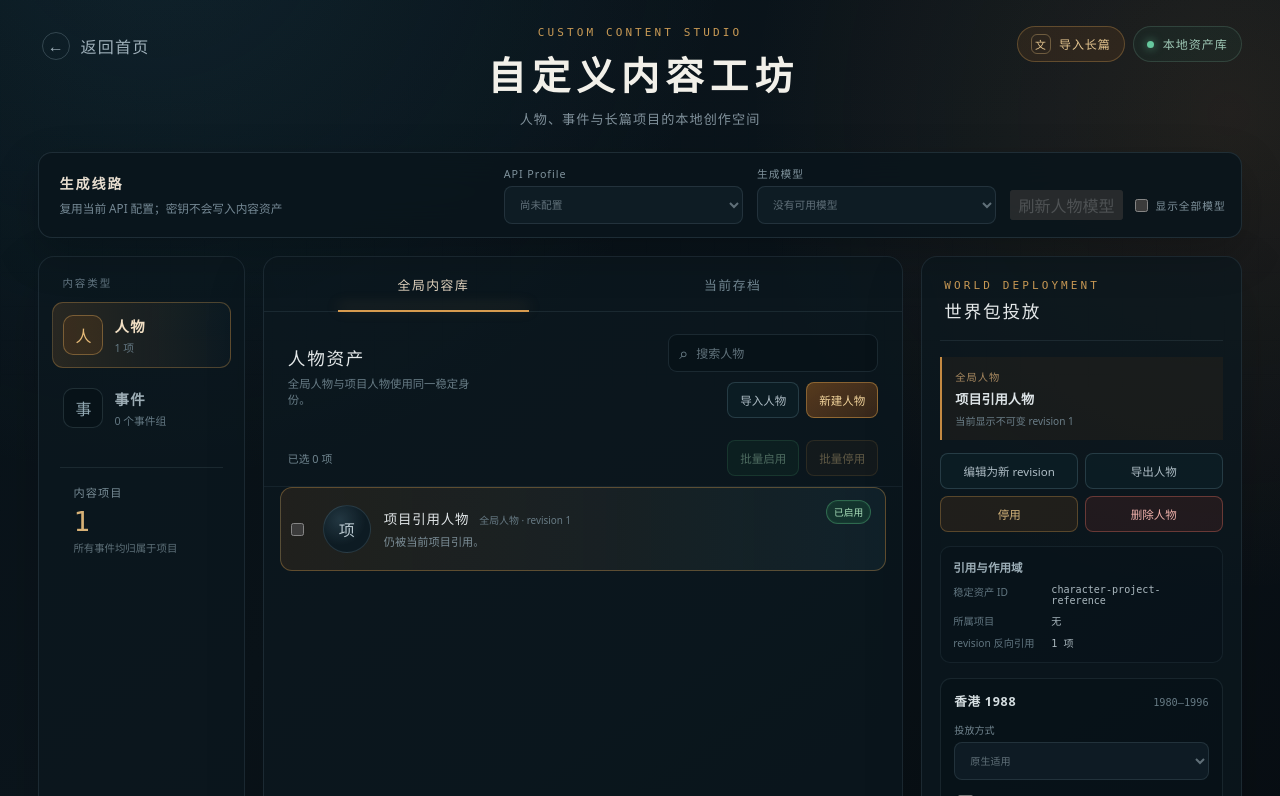
Scenario: CustomContentWorkshopPage › protects a character that is still referenced by the current project revision
expect the button "项 项目引用人物 全局人物 · revision 1 仍被当前项目引用。 已启用" is shown: met, box [317,488,885,570]
Click the button "删除人物". click: x=1154, y=514
box: [1085,496,1223,532]
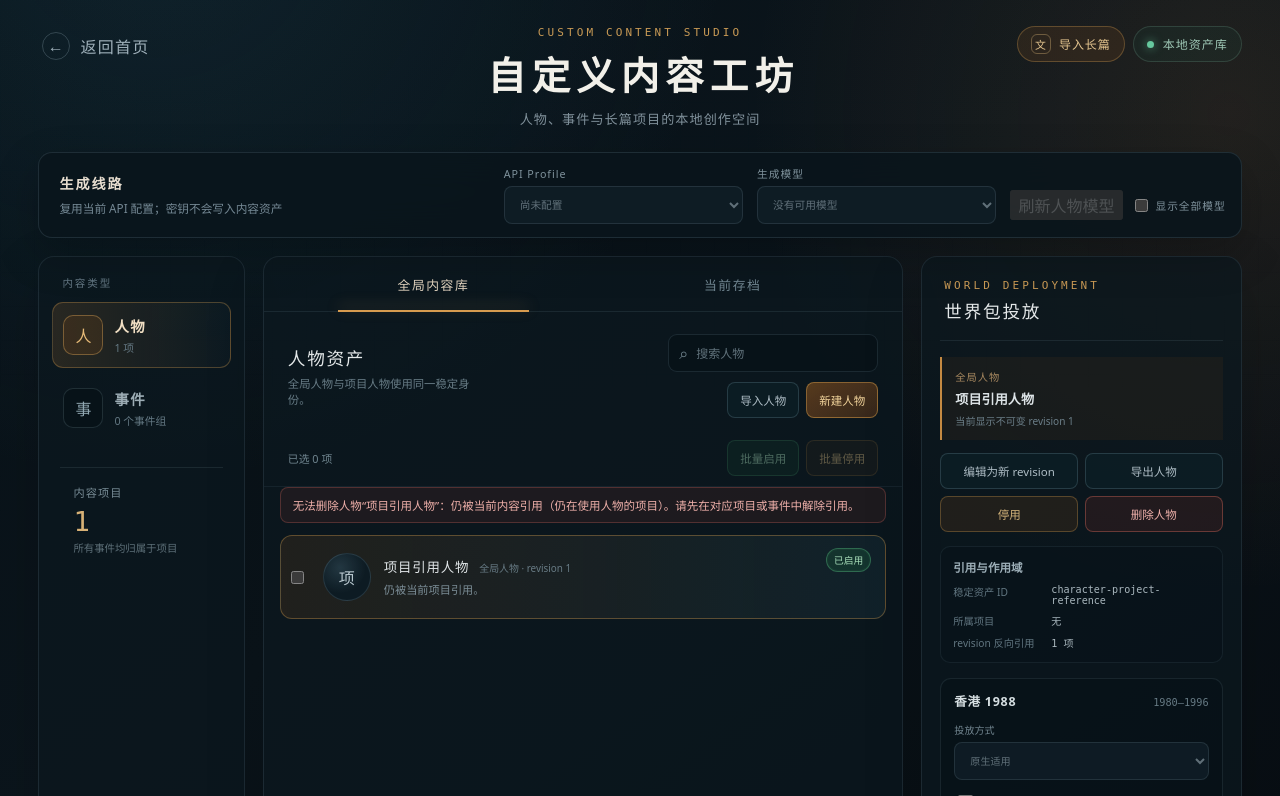
expect the text "无法删除人物“项目引用人物”：仍被当前内容引用（仍在使用人物的项目）。请先在对应项目或事件中解除引用。" is shown: met, box [280,487,886,523]
